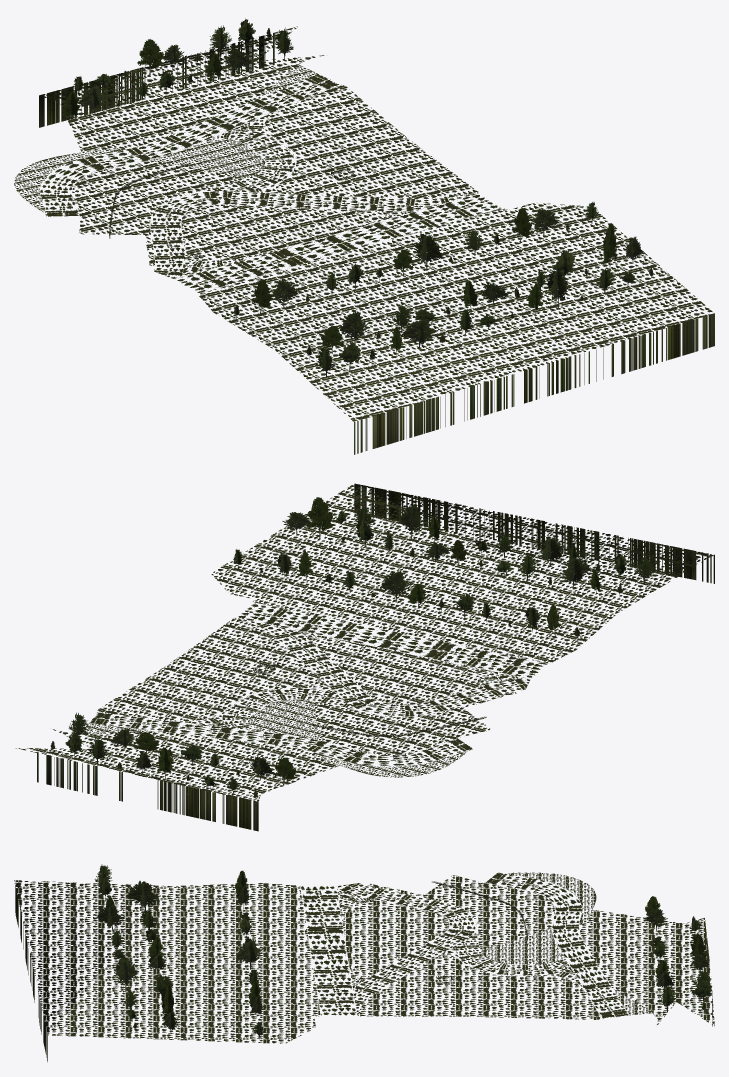
The model's file is redring6.glb.
3 views of the same model, one above another, from view 1: azimuth 30°, elevation 25°; view 2: azimuth 150°, elevation 25°; view 3: azimuth 270°, elevation 25° (orthographic). The views are drawn at different scales.
Visible parts, largest first — view 1: redring6; view 2: redring6; view 3: redring6.
Boxes of the visible parts, <box> form: redring6: <box>14,18,714,454</box>; redring6: <box>15,483,714,831</box>; redring6: <box>14,864,714,1062</box>.
Size of the model in its own units: 177 by 32.04 by 306.
Materials: 1 (1 with a texture image).
